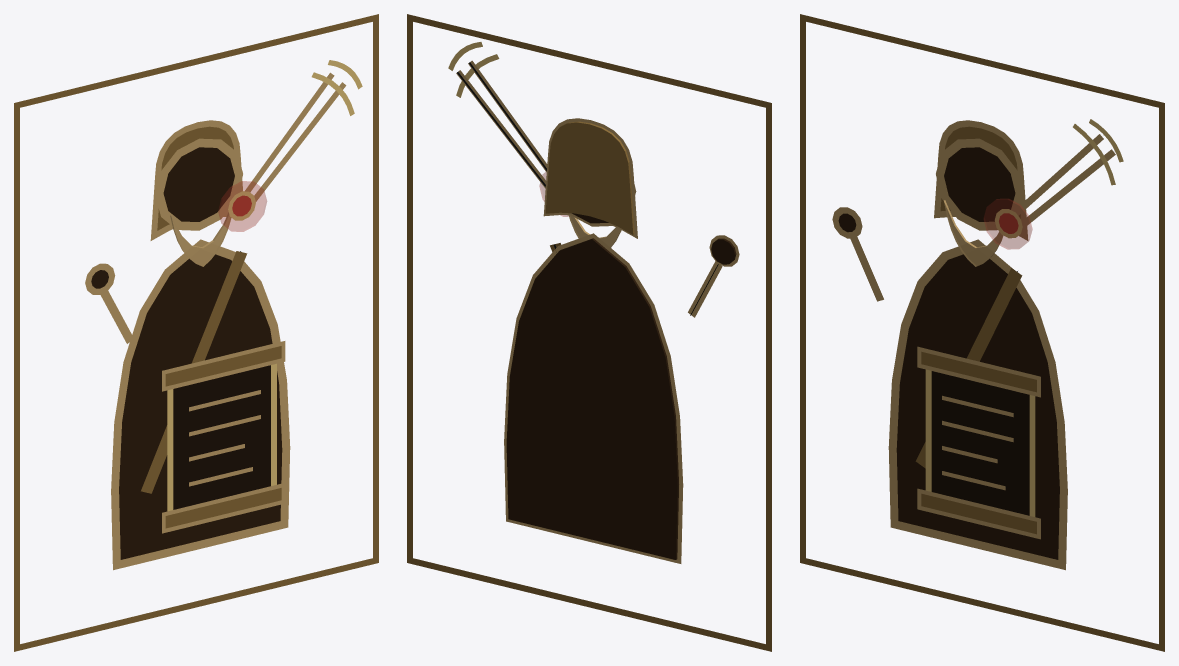
The model's file is npc-isaias.glb.
3 renders of one model, left to right at view 1: azimuth 30°, elevation 25°; view 2: azimuth 150°, elevation 25°; view 3: azimuth 330°, elevation 25°, orthographic.
Parts seen in each view (by area): view 1: npc-isaias; view 2: npc-isaias; view 3: npc-isaias.
Boxes of the visible parts, x1,y1,x2,y2 form: npc-isaias: (14,14,378,651); npc-isaias: (407,14,771,651); npc-isaias: (800,14,1164,651).
Bounding box in the file's own units: 1.14 × 1.64 × 0.1054.
